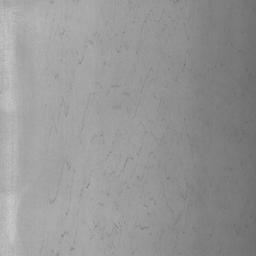Silk spot: (106, 221, 126, 237)
